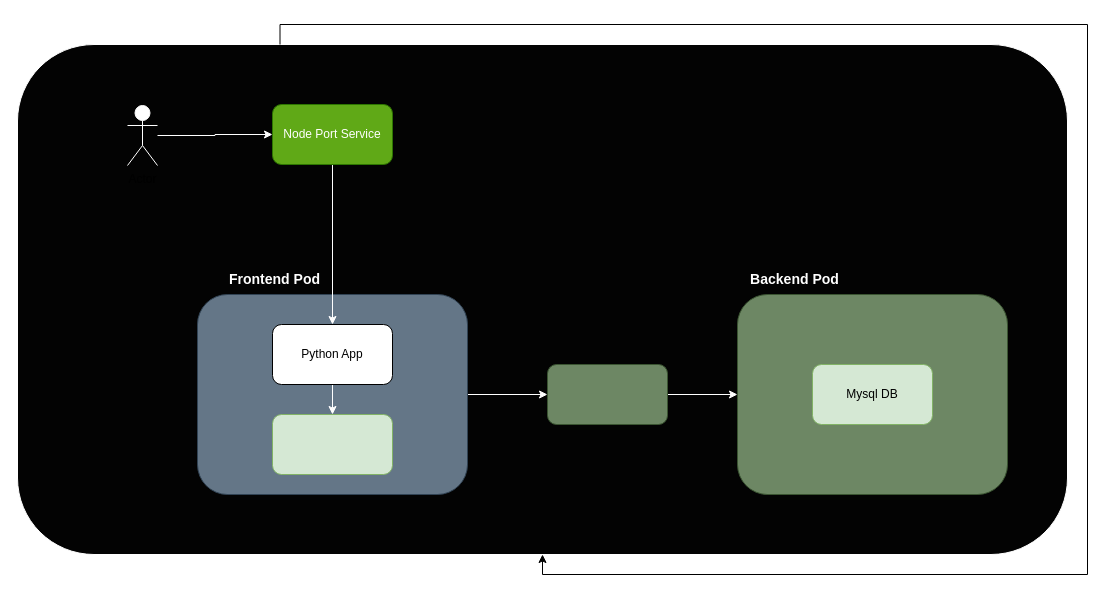
Image size: 1113x600. Some labels were removed from this diagram. The centre of each missing label's shape, as x and y in pixels:
"Cluster IP Service" goes at point 607,394.
"Redis Cache" goes at point 332,444.
